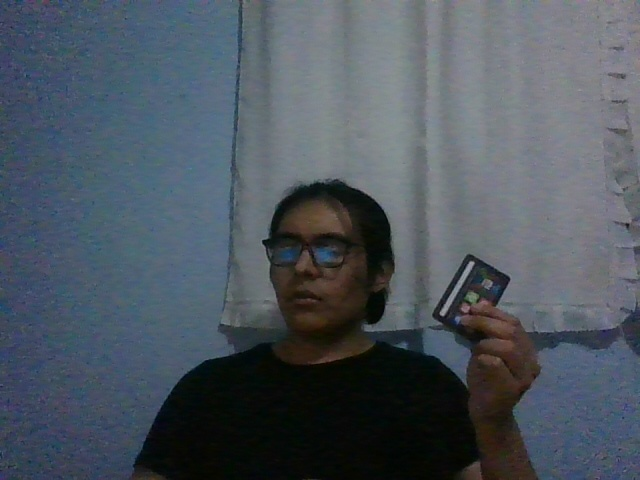tarjeta: (432, 253, 511, 342)
